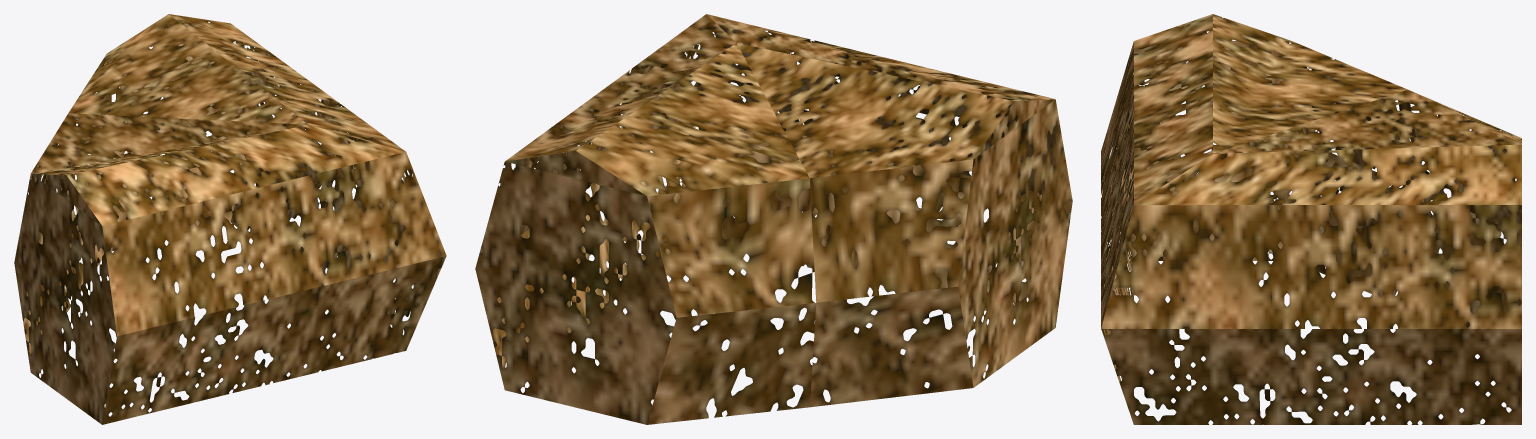
The model's file is bush_square_corner_filled_autumn.fbx.
3 renders of one model, left to right at view 1: azimuth 30°, elevation 25°; view 2: azimuth 150°, elevation 25°; view 3: azimuth 270°, elevation 25°, orthographic. The views are drawn at different scales.
Visible parts, largest first — view 1: bush_square_corner_filled_autumn; view 2: bush_square_corner_filled_autumn; view 3: bush_square_corner_filled_autumn.
Part boxes in pixels (x1,y1,x2,y2): bush_square_corner_filled_autumn: [14, 14, 446, 424]; bush_square_corner_filled_autumn: [475, 14, 1072, 424]; bush_square_corner_filled_autumn: [1101, 14, 1521, 424].
Size of the model in its own units: 136 by 87.65 by 135.
1 material, 1 textured.
